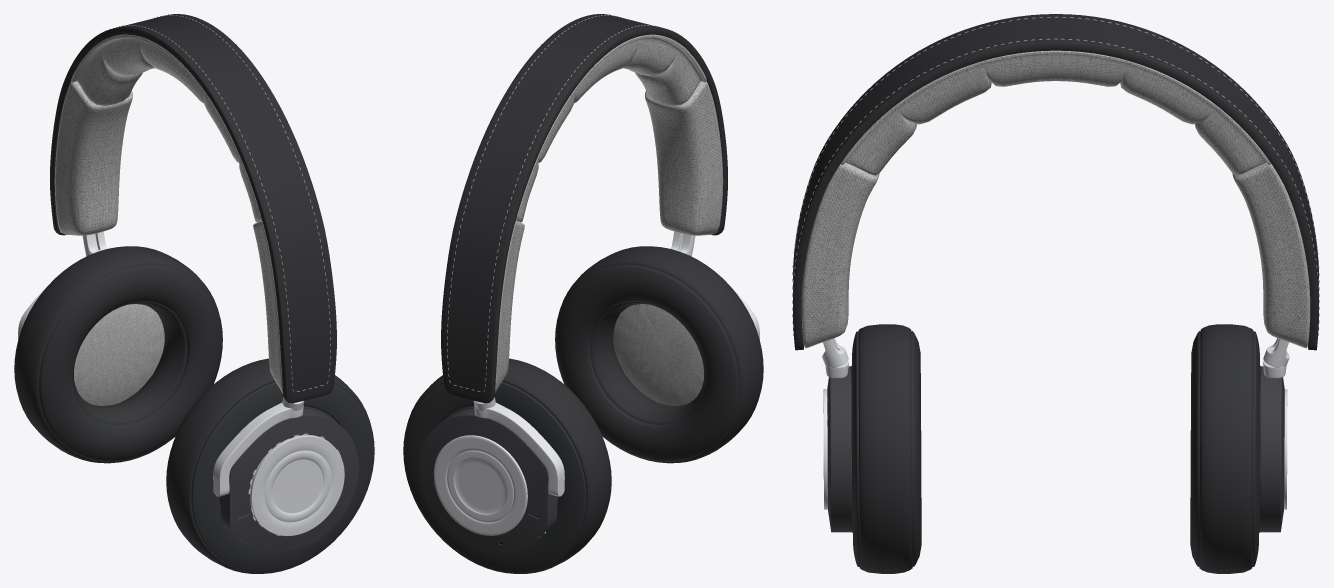
Rendered from headphones.glb.
The picture shows the model from 3 angles, left to right: view 1: azimuth 30°, elevation 25°; view 2: azimuth 150°, elevation 25°; view 3: azimuth 270°, elevation 25°; orthographic projection. The views are drawn at different scales.
Parts seen in each view (by area): view 1: Ear_Cushion_L, Headband_Frame, Earcup_Chassis_R, Earcup_Shell_R, Headband_Cushion_L, Acoustic_Driver_L, Ear_Cushion_R, Headband_Cushion_Top, Hinge_Yoke_R, Headband_Cushion_R, Headband_Stitches_Outer; view 2: Ear_Cushion_R, Headband_Frame, Earcup_Chassis_L, Earcup_Shell_L, Headband_Cushion_R, Acoustic_Driver_R, Ear_Cushion_L, Headband_Cushion_Top, Hinge_Yoke_L, Headband_Cushion_L, Headband_Stitches_Outer; view 3: Headband_Frame, Ear_Cushion_L, Ear_Cushion_R, Headband_Cushion_Top, Headband_Cushion_L, Headband_Cushion_R, Earcup_Chassis_R, Earcup_Chassis_L, Earcup_Shell_L, Earcup_Shell_R, Headband_Stitches_Outer.
Part boxes in pixels (x1=…): Ear_Cushion_L: x1=14, y1=246, x2=222, y2=463; Headband_Frame: x1=50, y1=14, x2=336, y2=403; Earcup_Chassis_R: x1=220, y1=408, x2=358, y2=552; Earcup_Shell_R: x1=191, y1=381, x2=373, y2=572; Headband_Cushion_L: x1=54, y1=81, x2=132, y2=235; Acoustic_Driver_L: x1=74, y1=304, x2=164, y2=405; Ear_Cushion_R: x1=166, y1=358, x2=374, y2=573; Headband_Cushion_Top: x1=71, y1=34, x2=262, y2=222; Hinge_Yoke_R: x1=213, y1=402, x2=303, y2=496; Headband_Cushion_R: x1=253, y1=221, x2=282, y2=393; Headband_Stitches_Outer: x1=113, y1=15, x2=330, y2=391; Ear_Cushion_R: x1=555, y1=246, x2=763, y2=463; Headband_Frame: x1=441, y1=14, x2=727, y2=403; Earcup_Chassis_L: x1=419, y1=408, x2=557, y2=552; Earcup_Shell_L: x1=404, y1=381, x2=586, y2=572; Headband_Cushion_R: x1=645, y1=81, x2=723, y2=235; Acoustic_Driver_R: x1=613, y1=304, x2=703, y2=405; Ear_Cushion_L: x1=403, y1=358, x2=611, y2=573; Headband_Cushion_Top: x1=515, y1=34, x2=706, y2=222; Hinge_Yoke_L: x1=474, y1=402, x2=564, y2=496; Headband_Cushion_L: x1=495, y1=221, x2=524, y2=393; Headband_Stitches_Outer: x1=447, y1=15, x2=663, y2=391; Headband_Frame: x1=793, y1=14, x2=1318, y2=350; Ear_Cushion_L: x1=1190, y1=324, x2=1253, y2=573; Ear_Cushion_R: x1=858, y1=324, x2=921, y2=573; Headband_Cushion_Top: x1=840, y1=50, x2=1271, y2=175; Headband_Cushion_L: x1=1232, y1=162, x2=1310, y2=348; Headband_Cushion_R: x1=801, y1=162, x2=879, y2=348; Earcup_Chassis_R: x1=823, y1=366, x2=852, y2=532; Earcup_Chassis_L: x1=1259, y1=366, x2=1287, y2=532; Earcup_Shell_L: x1=1252, y1=331, x2=1260, y2=566; Earcup_Shell_R: x1=851, y1=331, x2=859, y2=566; Headband_Stitches_Outer: x1=792, y1=16, x2=1319, y2=335.
Bounding box in the file's own units: 0.103 × 0.2427 × 0.2175.
17 materials, 5 textured.
